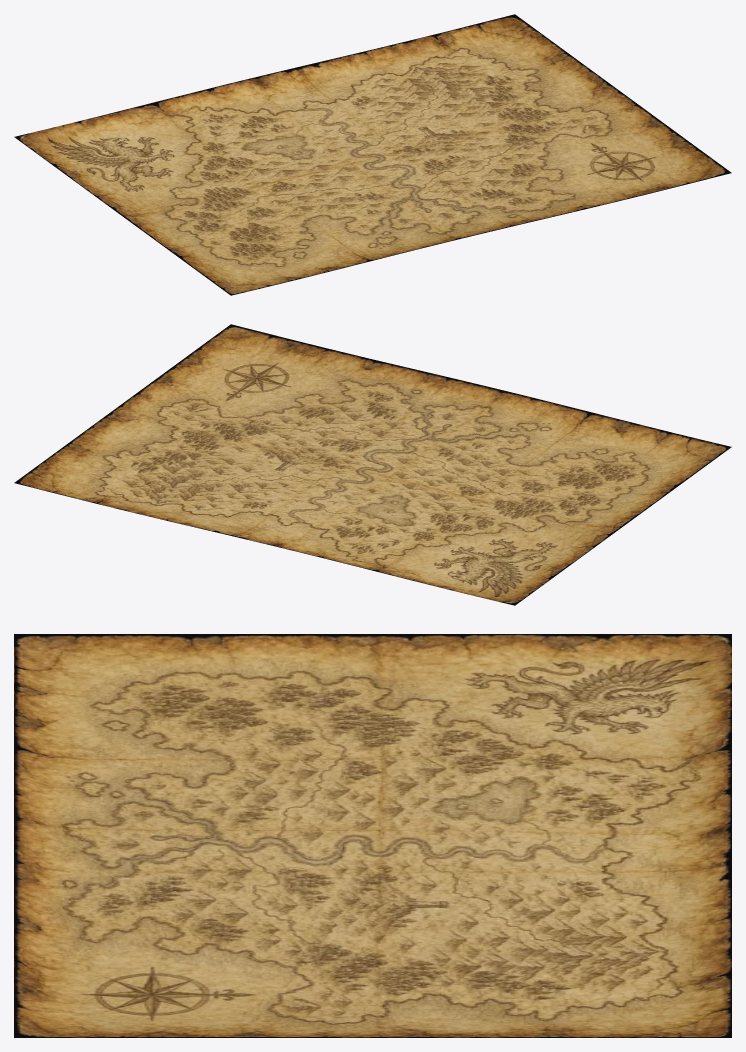
Rendered from map.lod1.glb.
3 views of the same model, one above another, from view 1: azimuth 30°, elevation 25°; view 2: azimuth 150°, elevation 25°; view 3: azimuth 270°, elevation 25° (orthographic). The views are drawn at different scales.
Parts seen in each view (by area): view 1: Grid; view 2: Grid; view 3: Grid.
Boxes of the visible parts, x1,y1,x2,y2 form: Grid: [14, 14, 731, 295]; Grid: [14, 324, 731, 605]; Grid: [14, 634, 731, 1037].
Bounding box in the file's own units: 2.4 × 0.0346 × 1.8.
1 material, 1 textured.
